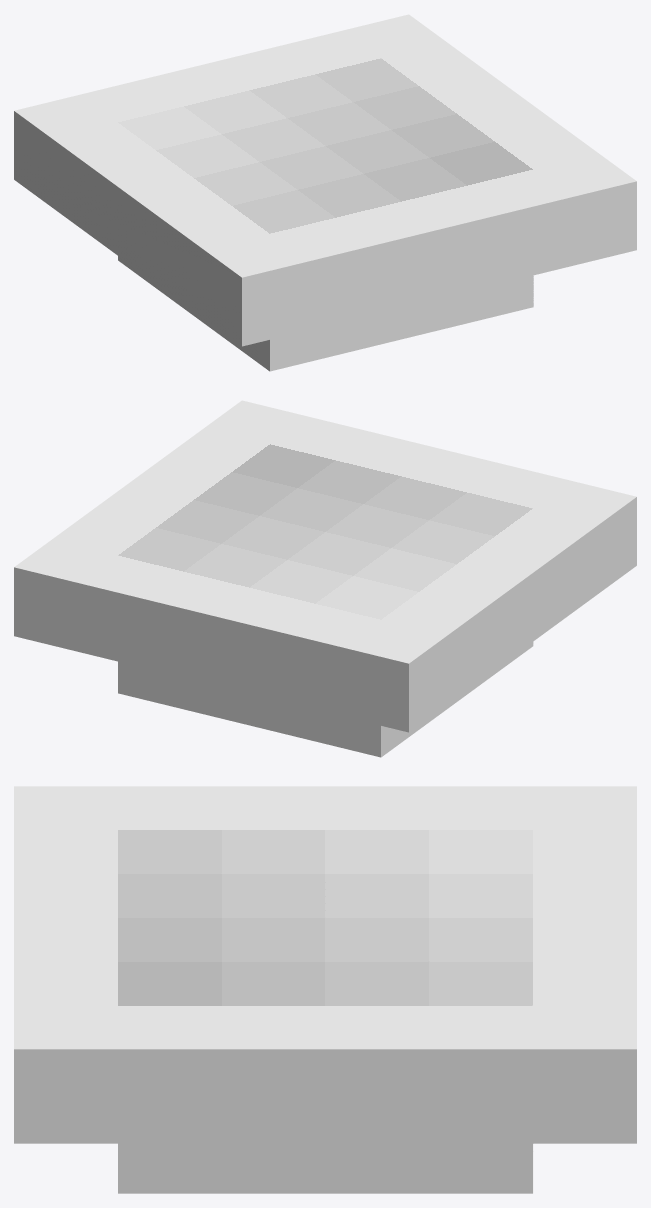
The model's file is Plate.fbx.
3 renders of one model, top to bottom at view 1: azimuth 30°, elevation 25°; view 2: azimuth 150°, elevation 25°; view 3: azimuth 270°, elevation 25°, orthographic. The views are drawn at different scales.
Visible parts, largest first — view 1: cube_1, cube; view 2: cube_1, cube; view 3: cube_1, cube.
Boxes of the visible parts, left/top/right/bottom form: cube_1: left=14, top=14, right=636, bottom=346; cube: left=118, top=256, right=533, bottom=371; cube_1: left=14, top=400, right=636, bottom=732; cube: left=118, top=642, right=533, bottom=757; cube_1: left=14, top=786, right=636, bottom=1143; cube: left=118, top=1143, right=533, bottom=1193.
Size of the model in its own units: 37.5 by 12.5 by 37.5.
1 material, 1 textured.
